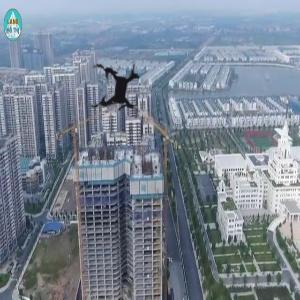drone: (67, 40, 168, 141)
